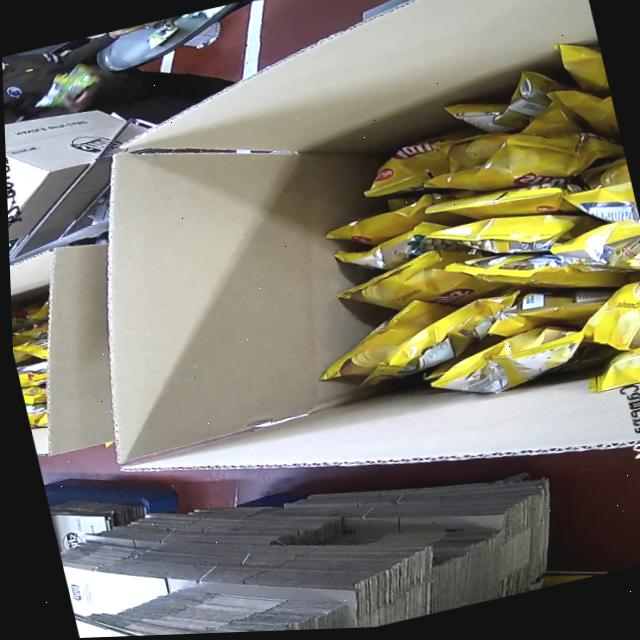SALTED: (252, 36, 640, 467), (11, 304, 63, 427)
